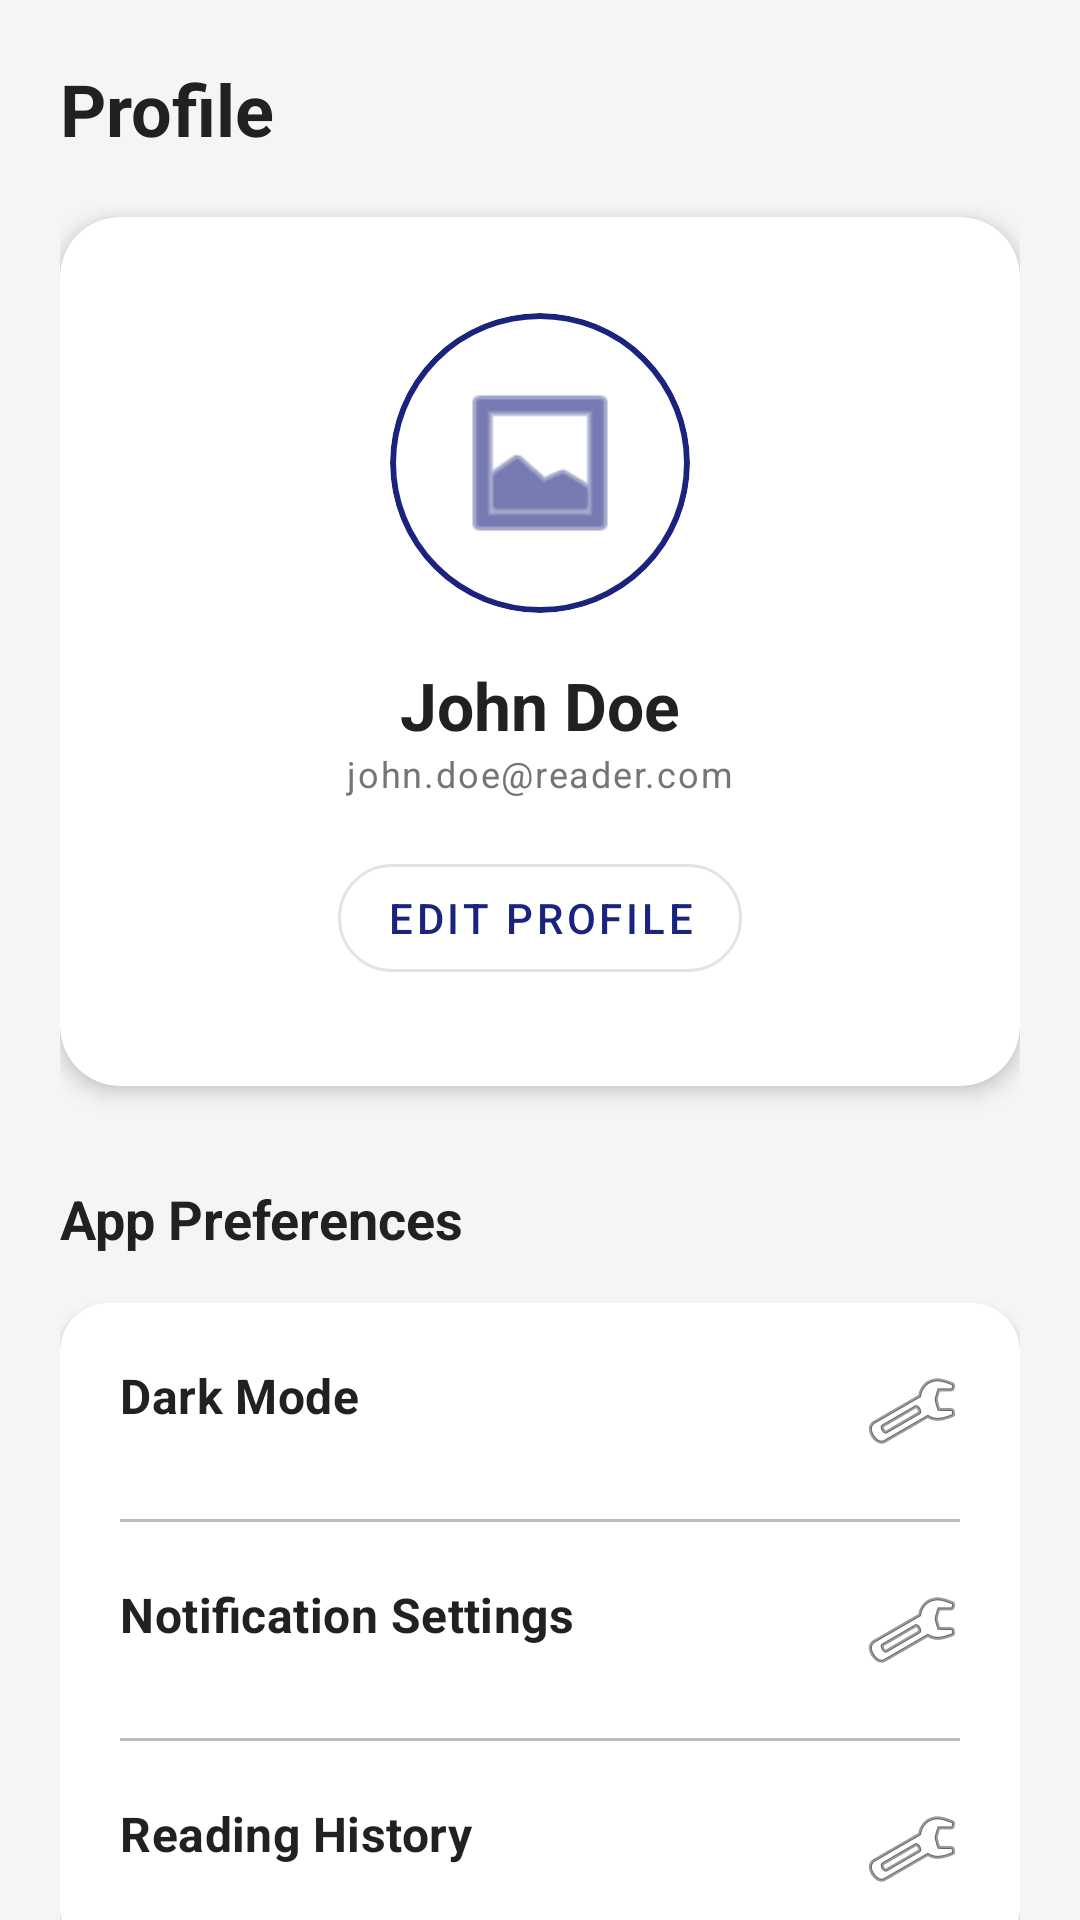

Screen size 1080*1920. Icon name, then its box in pixels as (x1, y1, x2, y2):
gallery: (390, 313, 690, 613)
